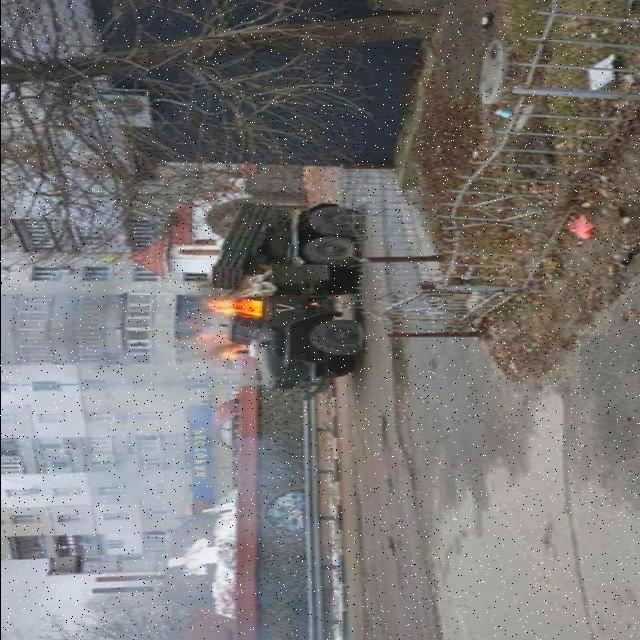MLRS: (204, 200, 368, 395)
